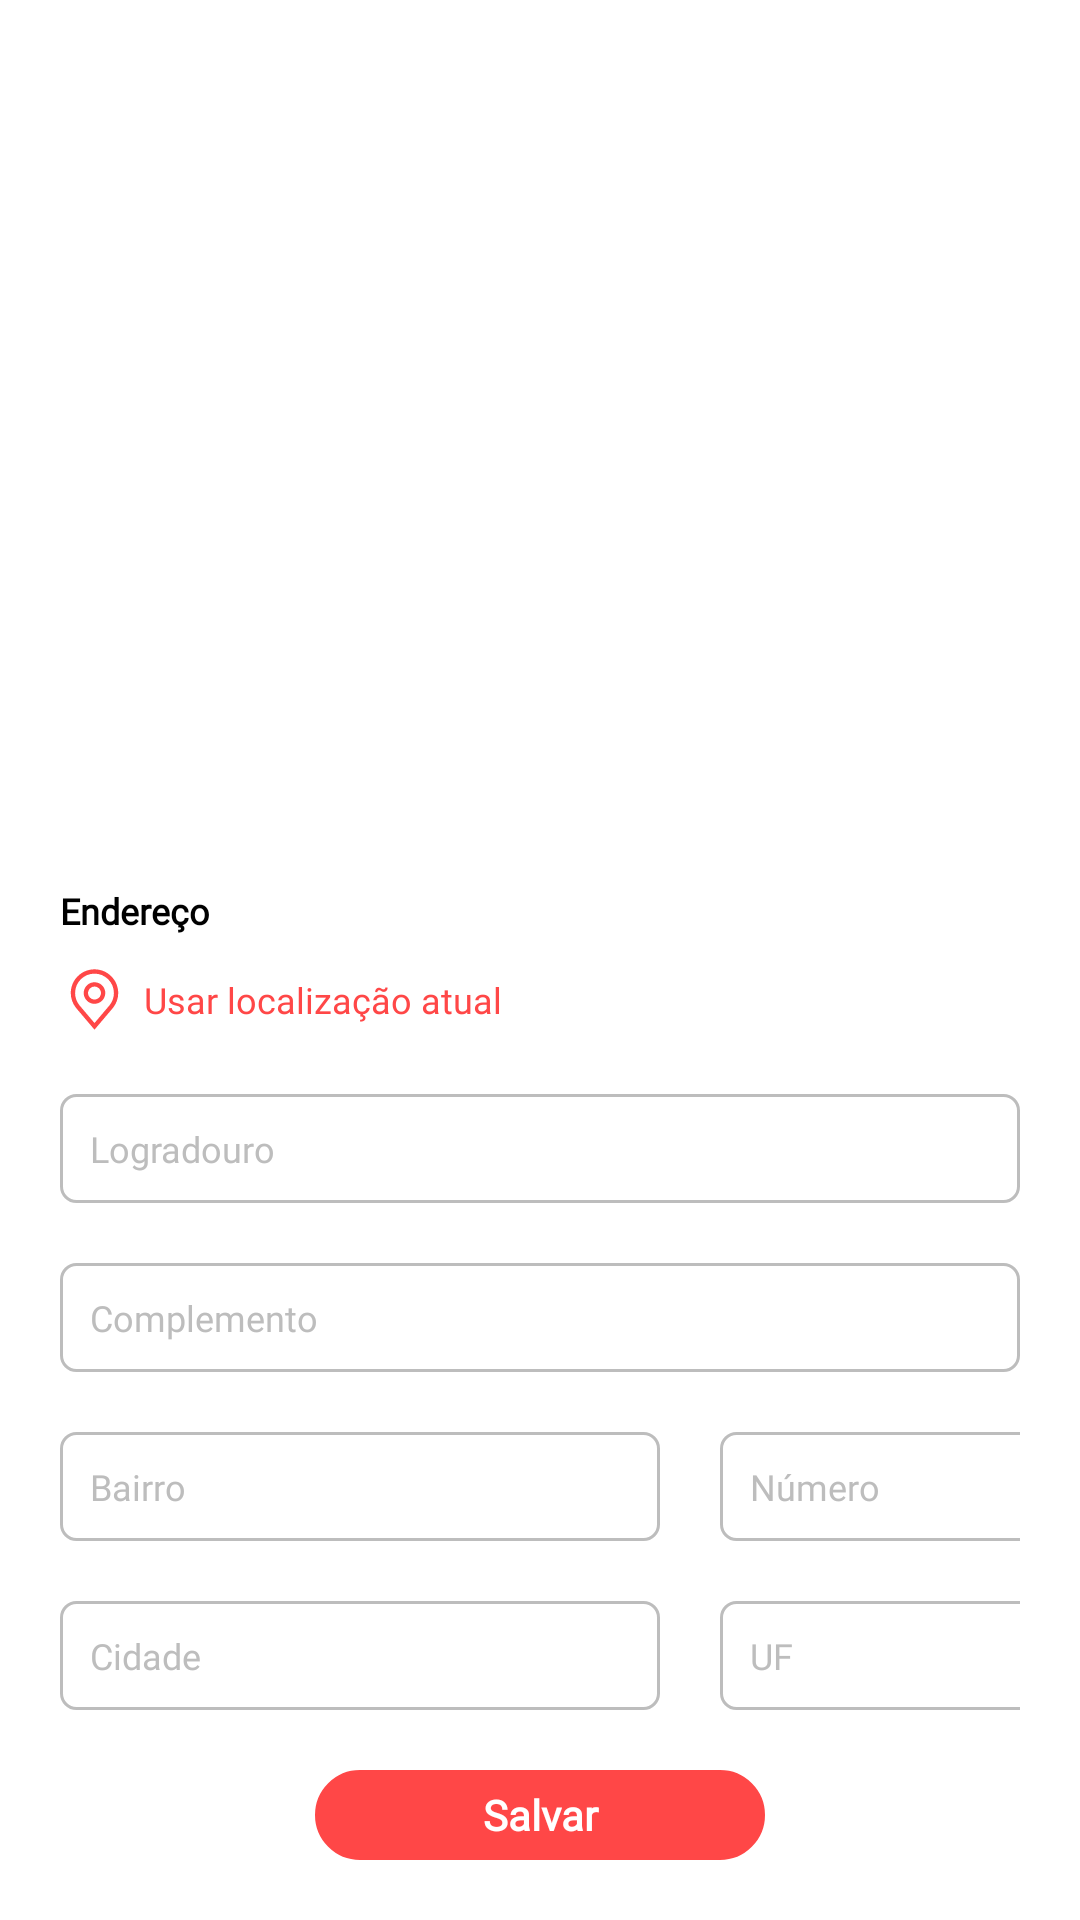

Icon click points for this 1080px×1920px phone screenshot, format [x,y]:
location: [94,999]
